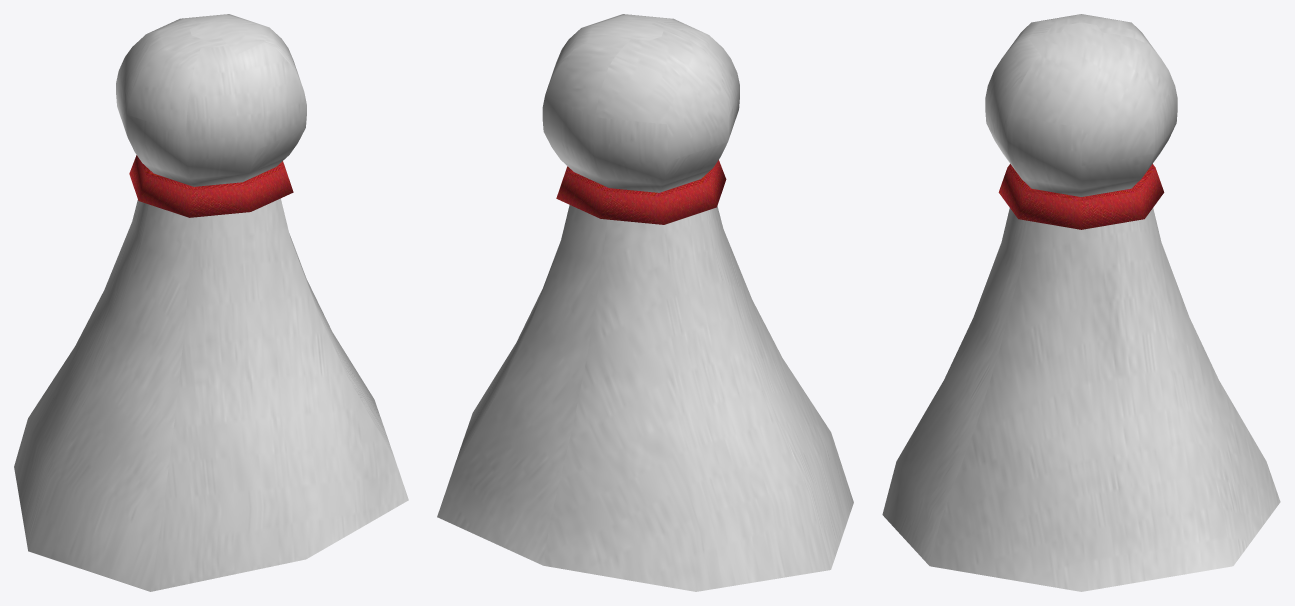
The model's file is teru teru bozu.fbx.
The picture shows the model from 3 angles, left to right: view 1: azimuth 30°, elevation 25°; view 2: azimuth 150°, elevation 25°; view 3: azimuth 270°, elevation 25°; orthographic projection. The views are drawn at different scales.
Parts seen in each view (by area): view 1: Cube, Cube.001; view 2: Cube, Cube.001; view 3: Cube, Cube.001.
Boxes of the visible parts, x1,y1,x2,y2 form: Cube: (14, 14, 408, 591); Cube.001: (129, 155, 293, 217); Cube: (437, 14, 853, 591); Cube.001: (556, 160, 726, 224); Cube: (882, 14, 1280, 591); Cube.001: (998, 164, 1164, 229).
Size of the model in its own units: 717 by 908 by 656.
